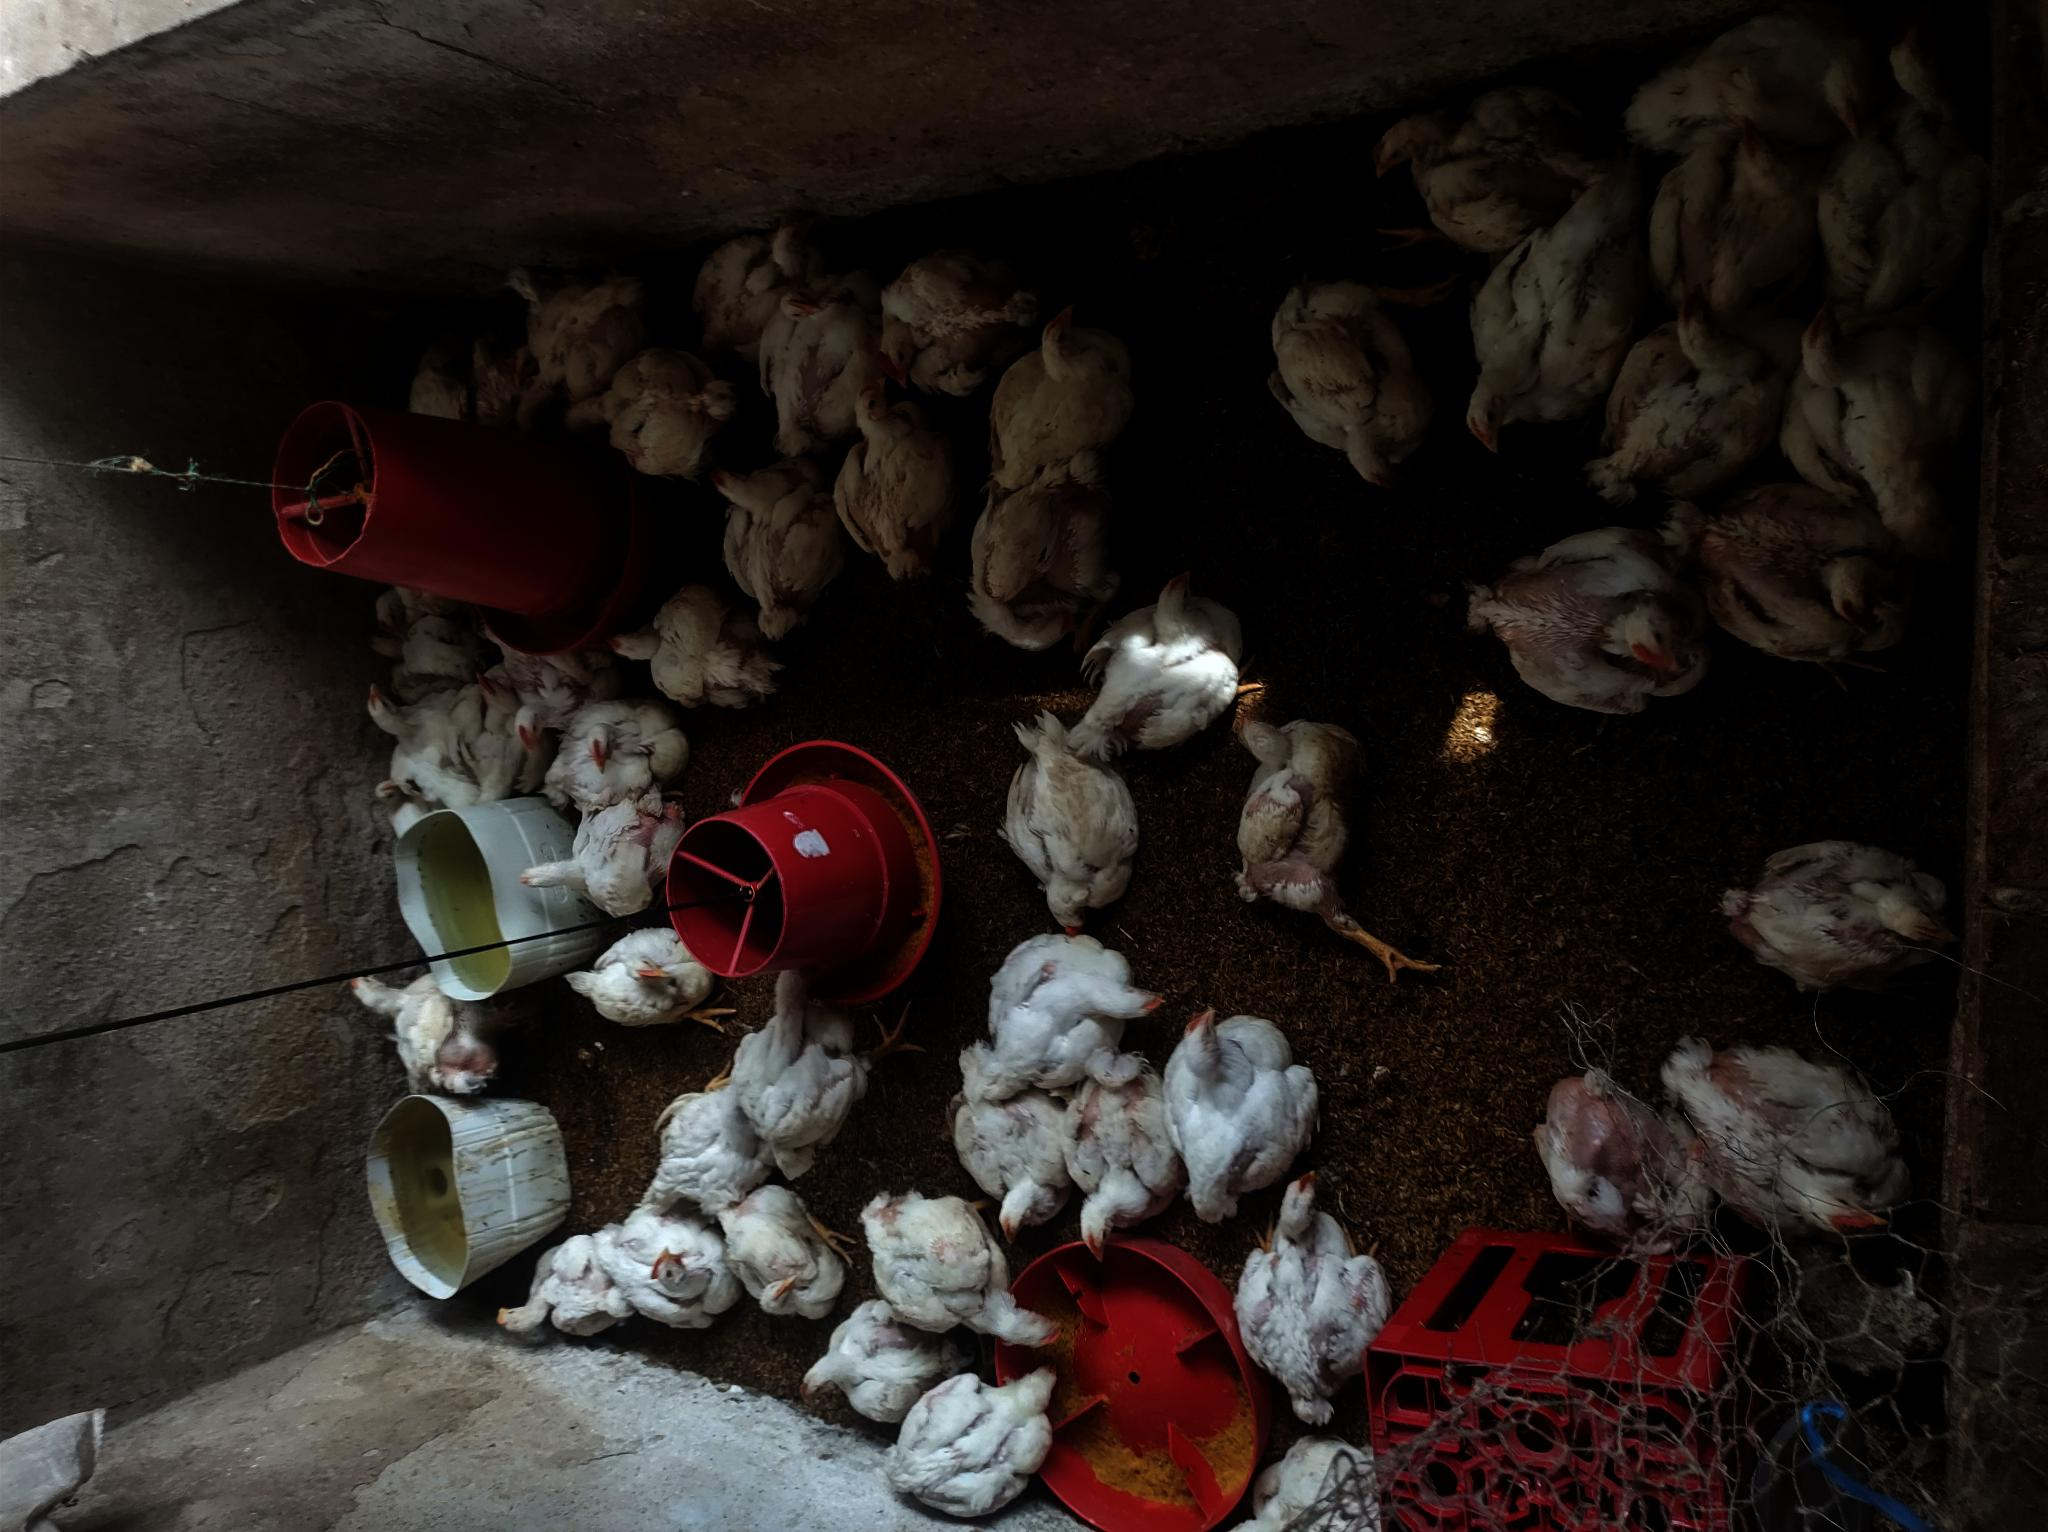Pollos: (1668, 1019, 1939, 1250), (1454, 167, 1651, 462), (1211, 686, 1396, 978), (1242, 1152, 1427, 1427), (1248, 248, 1446, 492), (856, 1167, 1063, 1398), (1686, 492, 1927, 690), (1475, 523, 1707, 729), (1840, 18, 1997, 288), (1717, 806, 1951, 982), (1784, 296, 1972, 512), (1604, 290, 1786, 510), (1615, 8, 1879, 151), (960, 920, 1168, 1102), (994, 702, 1152, 933), (1376, 85, 1593, 245), (1528, 1065, 1696, 1270), (968, 459, 1137, 660), (322, 954, 520, 1125), (874, 1357, 1063, 1526), (1651, 114, 1816, 296), (1162, 998, 1298, 1213), (537, 924, 750, 1057), (750, 961, 880, 1173), (1097, 571, 1252, 748), (698, 460, 853, 632), (1236, 1371, 1400, 1532), (993, 299, 1144, 463), (862, 245, 1038, 385), (840, 381, 964, 574), (1054, 1065, 1171, 1266), (698, 1176, 853, 1329), (513, 266, 647, 441), (520, 797, 685, 937), (598, 581, 759, 723), (943, 1081, 1063, 1266), (779, 1287, 923, 1440), (639, 1062, 772, 1226), (584, 1192, 732, 1337), (693, 195, 824, 356), (473, 1217, 611, 1365), (758, 291, 872, 452), (557, 710, 689, 809), (610, 385, 732, 489), (352, 681, 496, 768), (401, 325, 471, 451), (483, 615, 592, 694), (565, 343, 648, 430), (376, 563, 459, 634), (507, 690, 581, 763), (356, 623, 422, 698), (368, 769, 433, 838), (507, 251, 555, 307)
